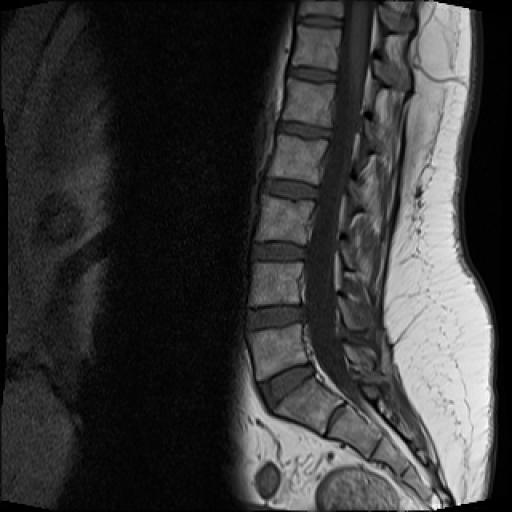L1: (283, 78, 335, 126)
L2: (269, 135, 328, 184)
L3: (255, 195, 314, 244)
L4: (249, 261, 302, 306)
L5: (248, 324, 308, 380)
S1: (274, 377, 343, 434)
